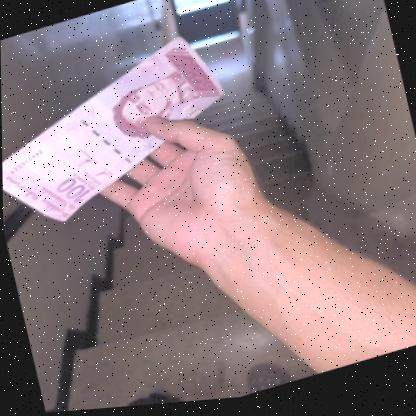one_hundred-front-vef: (0, 27, 243, 239)
